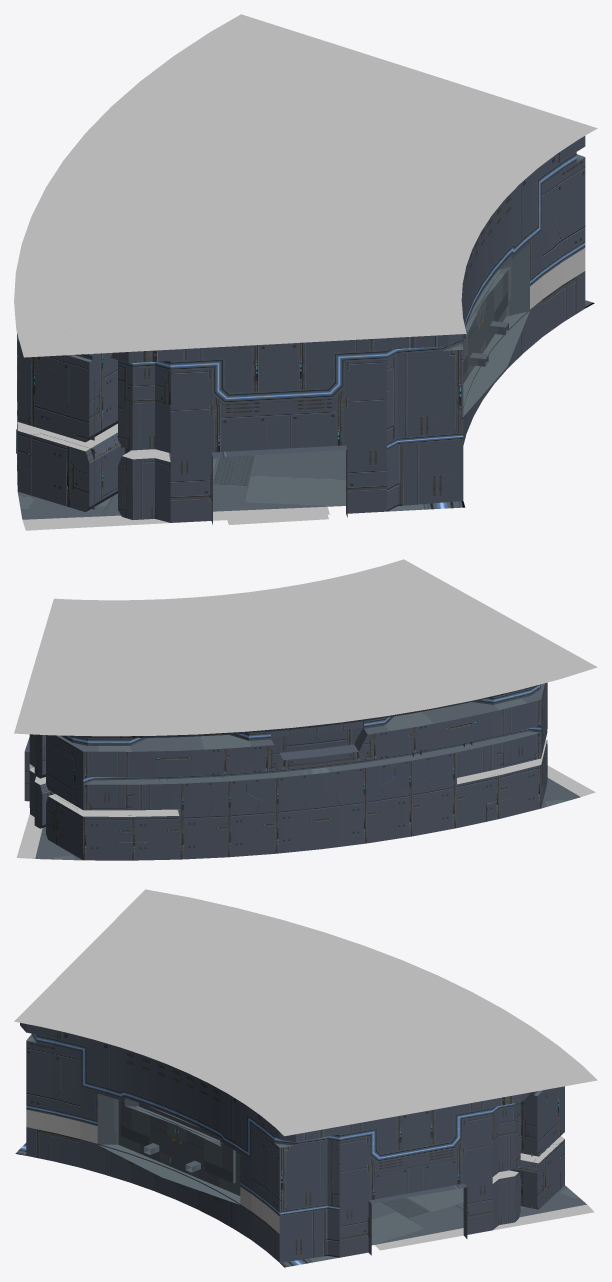
Rendered from pve_research_p1.FBX.
3 renders of one model, top to bottom at view 1: azimuth 30°, elevation 25°; view 2: azimuth 150°, elevation 25°; view 3: azimuth 270°, elevation 25°, orthographic. The views are drawn at different scales.
Visible parts, largest first — view 1: pve_research_tubo, pve_research_wall, Area_05_Ground_01 (×2), pve_research_ground_01, pve_defense_p5_PC, pve_basement_floor01; view 2: pve_research_tubo, pve_research_wall, Area_05_Ground_01 (×2), pve_research_ground_01, pve_basement_floor01, pve_research_elevator; view 3: pve_research_tubo, pve_research_wall, Area_05_Ground_01 (×2), pve_defense_p5_PC, pve_research_ground_01.
Part boxes in pixels (x1,y1,x2,y2): pve_research_tubo: [14, 14, 597, 357]; pve_research_wall: [17, 136, 585, 524]; Area_05_Ground_01 (×2): [16, 152, 594, 519]; pve_research_ground_01: [22, 506, 329, 530]; pve_defense_p5_PC: [530, 248, 585, 309]; pve_basement_floor01: [21, 423, 166, 458]; pve_research_tubo: [14, 559, 597, 736]; pve_research_wall: [24, 682, 547, 860]; Area_05_Ground_01 (×2): [35, 683, 580, 860]; pve_research_ground_01: [16, 765, 595, 858]; pve_basement_floor01: [37, 759, 539, 815]; pve_research_elevator: [29, 739, 546, 816]; pve_research_tubo: [14, 889, 597, 1136]; pve_research_wall: [20, 1023, 564, 1262]; Area_05_Ground_01 (×2): [15, 1033, 586, 1267]; pve_defense_p5_PC: [26, 1109, 279, 1233]; pve_research_ground_01: [375, 1204, 594, 1250].
Bounding box in the file's own units: 43269 × 10845 × 43237.
